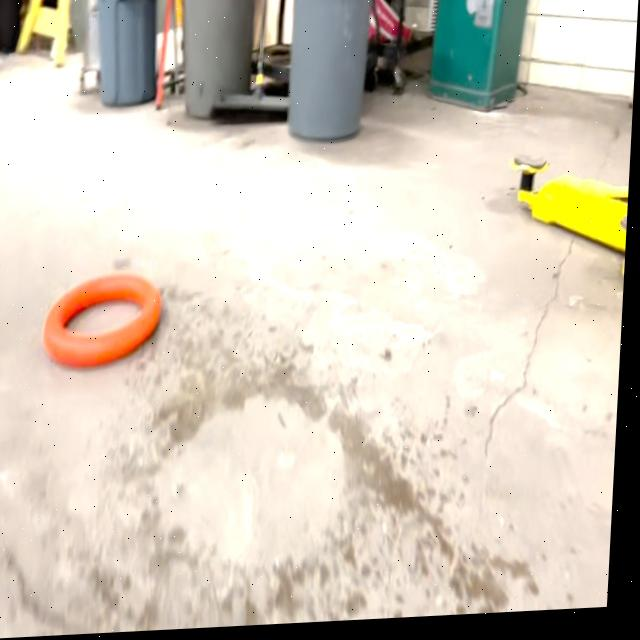note: (42, 272, 167, 375)
